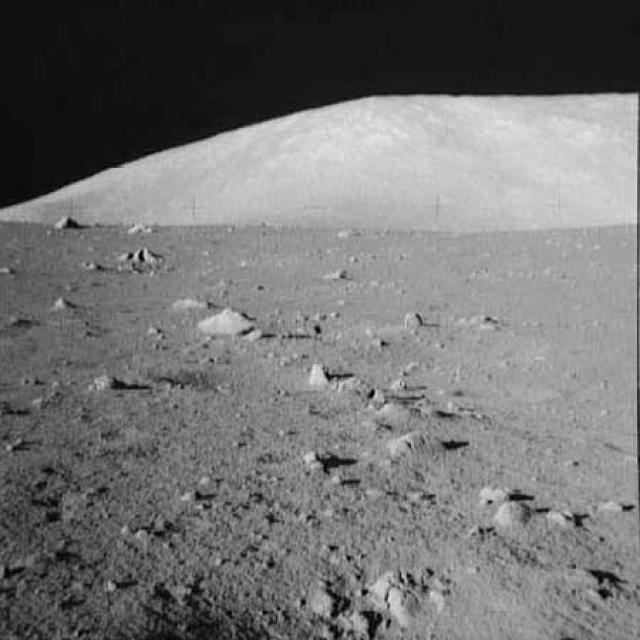rock: (192, 298, 256, 338), (389, 427, 454, 458), (108, 241, 168, 269), (82, 361, 126, 396), (498, 498, 530, 537), (400, 300, 433, 334), (48, 291, 79, 320), (303, 358, 328, 392), (54, 211, 82, 233)
